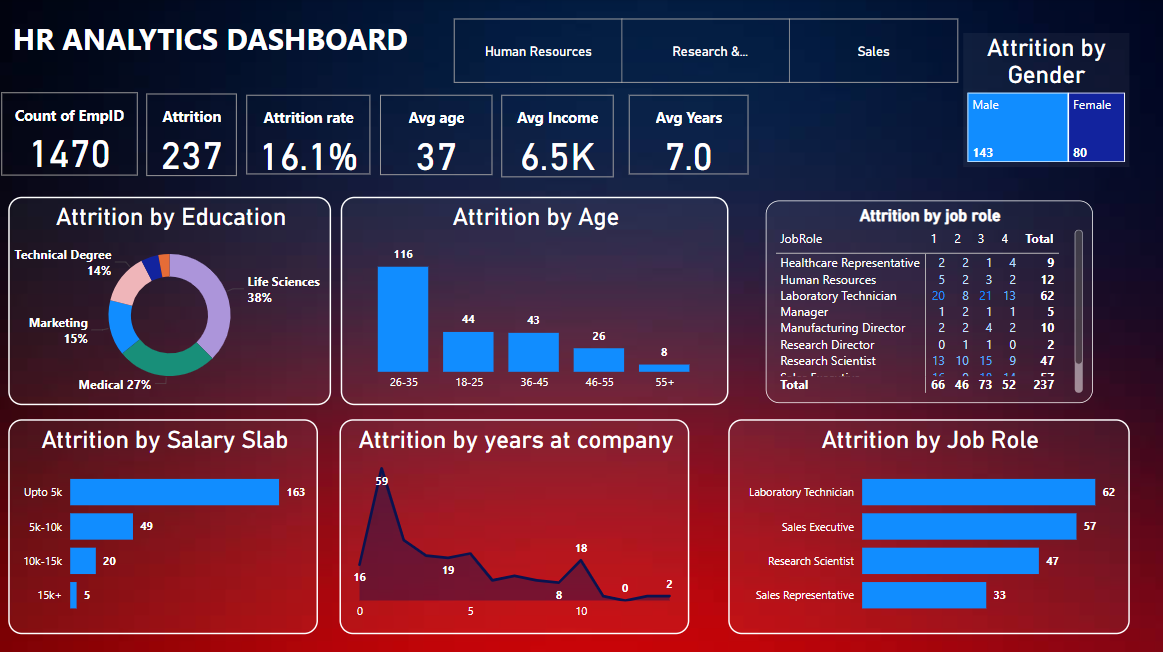

What the dashboard file says about the page in this screenshot:
{"tool":"powerbi","page":{"name":"Page 1","canvas":[1280,720],"ordinal":0},"visuals":[{"type":"cardVisual","title":"Counts of EmpId","fields":{"Data":["CountNonNull(HR_Analytics.EmpID)"]},"box":[0,98.8,159.2,101.5],"z":0},{"type":"cardVisual","title":"Counts of EmpId","fields":{"Data":["Sum(HR_Analytics.AttritionData)"]},"box":[159.2,100.2,109.8,100.2],"z":1000},{"type":"cardVisual","title":"Counts of EmpId","fields":{"Data":["Avg(HR_Analytics.Age)"]},"box":[415.8,101.5,133.1,98.8],"z":2000},{"type":"cardVisual","title":"Counts of EmpId","fields":{"Data":["HR_Analytics.AttritionRate"]},"box":[269,101.5,146.8,97.4],"z":3000},{"type":"cardVisual","title":"Counts of EmpId","fields":{"Data":["Avg(HR_Analytics.MonthlyIncome)"]},"box":[548.9,101.5,133.1,100.2],"z":4000},{"type":"cardVisual","title":"Counts of EmpId","fields":{"Data":["Avg(HR_Analytics.YearsAtCompany)"]},"box":[688.9,101.5,141.3,97.4],"z":5000},{"type":"donutChart","title":"Attrition by Education","fields":{"Category":["HR_Analytics.EducationField"],"Y":["Sum(HR_Analytics.AttritionCount)"]},"box":[12.3,218.2,354,229.2],"z":6000},{"type":"columnChart","title":"Attrition by Age","fields":{"Category":["HR_Analytics.AgeGroup"],"Y":["Sum(HR_Analytics.AttritionCount)"]},"box":[377.4,218.2,425.4,229.2],"z":7000},{"type":"pivotTable","title":"Attrition by job role","fields":{"Columns":["HR_Analytics.JobSatisfaction"],"Values":["Sum(HR_Analytics.AttritionCount)"],"Rows":["HR_Analytics.JobRole"]},"box":[843.9,222.3,359.5,222.3],"z":8000},{"type":"barChart","title":"Attrition by Salary Slab","fields":{"Category":["HR_Analytics.SalarySlab"],"Y":["Sum(HR_Analytics.AttritionCount)"]},"box":[12.3,462.4,340.3,236],"z":9000},{"type":"barChart","title":"Attrition by Job Role","fields":{"Y":["Sum(HR_Analytics.AttritionCount)"],"Category":["HR_Analytics.JobRole"]},"box":[802.7,462.4,440.5,236],"z":10000},{"type":"areaChart","title":"Attrition by years at company","fields":{"Category":["HR_Analytics.YearsAtCompany"],"Y":["Sum(HR_Analytics.AttritionCount)"]},"box":[376,462.4,384.2,236],"z":11000},{"type":"treemap","title":"Attrition by Gender","fields":{"Group":["HR_Analytics.Gender"],"Values":["Sum(HR_Analytics.AttritionCount)"]},"box":[1060.7,38.4,182.5,146.8],"z":12000},{"type":"advancedSlicerVisual","fields":{"Values":["HR_Analytics.Department"]},"box":[496.7,17.8,564,81],"z":13000},{"type":"textbox","box":[12.3,17.8,484.4,67.2],"z":14000}]}

Visuals, with their boxes in screenshot pixels (x1, y1, x2, y2), scaled from the page's 1280x720 canvas onto the 1163x652 screenshot:
"Counts of EmpId" cardVisual: x1=0, y1=89, x2=145, y2=181
"Counts of EmpId" cardVisual: x1=145, y1=91, x2=244, y2=181
"Counts of EmpId" cardVisual: x1=378, y1=92, x2=499, y2=181
"Counts of EmpId" cardVisual: x1=244, y1=92, x2=378, y2=180
"Counts of EmpId" cardVisual: x1=499, y1=92, x2=620, y2=183
"Counts of EmpId" cardVisual: x1=626, y1=92, x2=754, y2=180
"Attrition by Education" donutChart: x1=11, y1=198, x2=333, y2=405
"Attrition by Age" columnChart: x1=343, y1=198, x2=729, y2=405
"Attrition by job role" pivotTable: x1=767, y1=201, x2=1093, y2=403
"Attrition by Salary Slab" barChart: x1=11, y1=419, x2=320, y2=632
"Attrition by Job Role" barChart: x1=729, y1=419, x2=1130, y2=632
"Attrition by years at company" areaChart: x1=342, y1=419, x2=691, y2=632
"Attrition by Gender" treemap: x1=964, y1=35, x2=1130, y2=168
advancedSlicerVisual - HR_Analytics.Department: x1=451, y1=16, x2=964, y2=89
textbox: x1=11, y1=16, x2=451, y2=77
